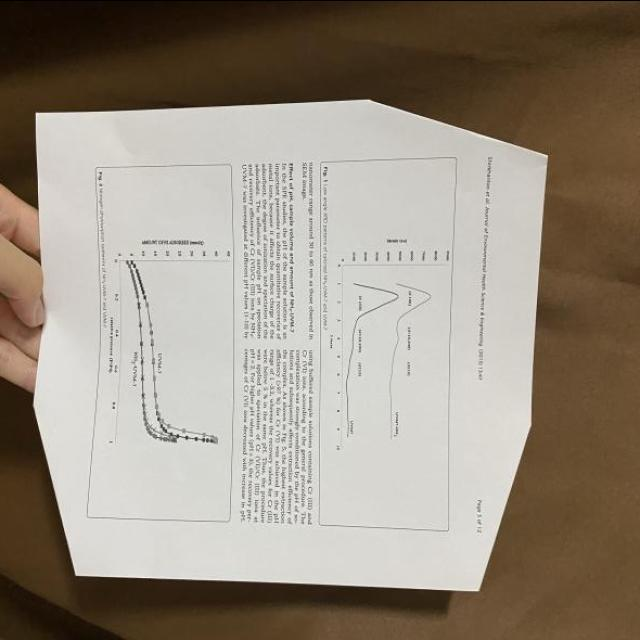kertas: (20, 88, 548, 592)
